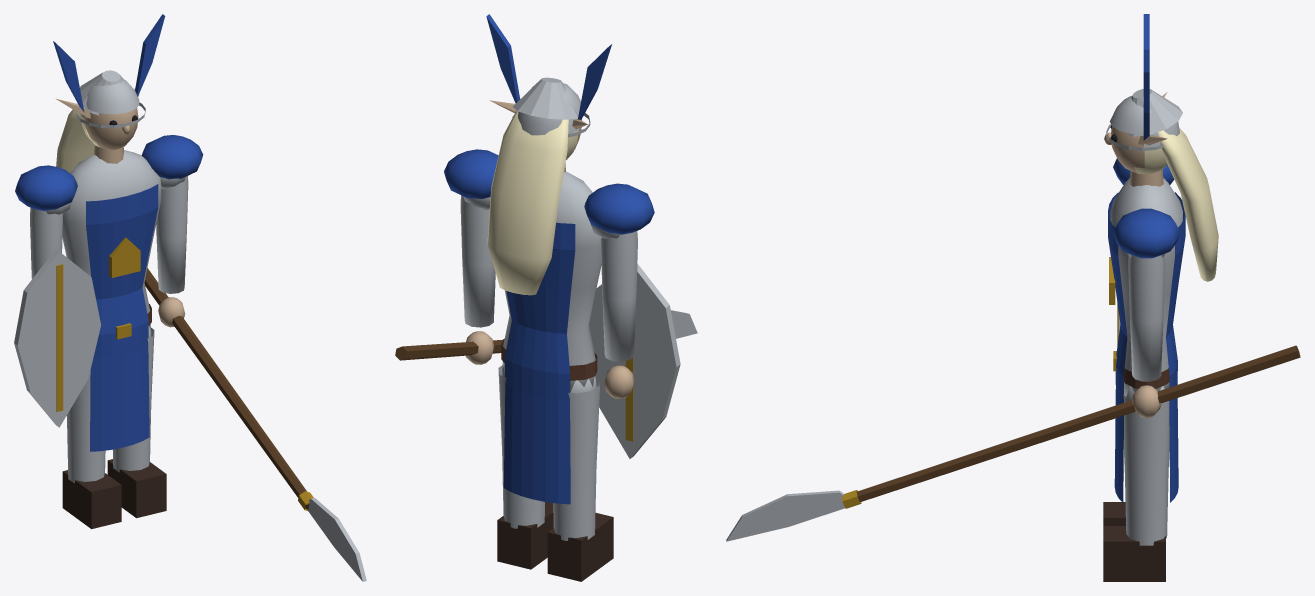
File: elf_knight.glb
3 renders of one model, left to right at view 1: azimuth 30°, elevation 25°; view 2: azimuth 150°, elevation 25°; view 3: azimuth 270°, elevation 25°, orthographic. The views are drawn at different scales.
Visible parts, largest first — view 1: Body, ArmL, ArmR, Head, LegL, LegR; view 2: Body, ArmL, Head, ArmR, LegL, LegR; view 3: ArmR, Body, Head, LegR.
Part boxes in pixels (left/top/right/bottom): Body: left=46, top=145, right=185, bottom=451; ArmL: left=14, top=165, right=101, bottom=427; ArmR: left=141, top=135, right=366, bottom=581; Head: left=53, top=14, right=165, bottom=172; LegL: left=62, top=370, right=121, bottom=529; LegR: left=107, top=326, right=166, bottom=518; Body: left=463, top=163, right=620, bottom=504; ArmL: left=584, top=183, right=680, bottom=458; Head: left=486, top=14, right=611, bottom=295; ArmR: left=395, top=149, right=697, bottom=364; LegL: left=547, top=376, right=613, bottom=581; LegR: left=497, top=363, right=553, bottom=569; ArmR: left=726, top=208, right=1300, bottom=541; Body: left=1108, top=169, right=1185, bottom=502; Head: left=1104, top=14, right=1218, bottom=281; LegR: left=1103, top=386, right=1169, bottom=581.
Size of the model in its own units: 1.21 by 2.84 by 2.85.
